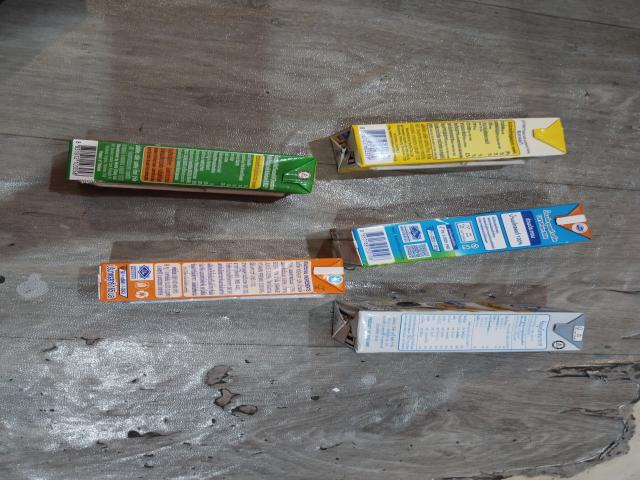drink_box: (65, 136, 333, 206), (86, 253, 346, 311), (348, 304, 607, 358), (335, 210, 607, 256), (337, 118, 575, 169)
